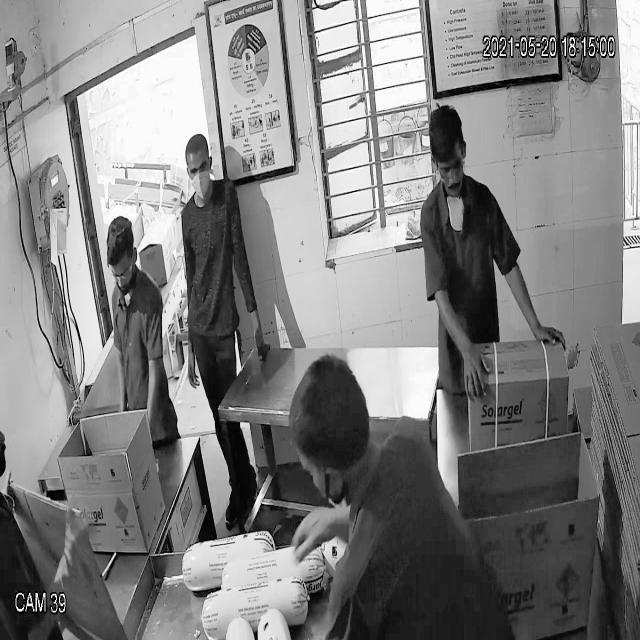glasses: (105, 257, 136, 284)
no-glass: (184, 158, 214, 182)
